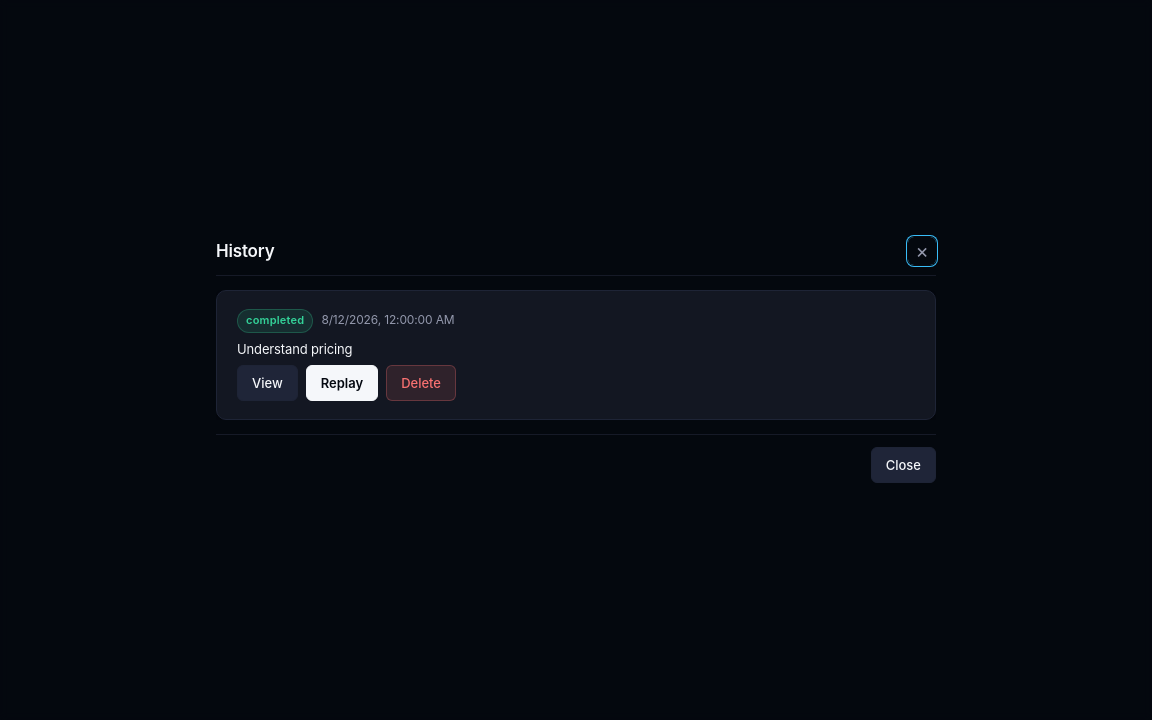
HistoryPanel › shows an error when deletion fails
Check: the text "Understand pricing" is shown, box [237,341,352,357]
What coordinates should you click on to do the following:
click the button "Delete"
I would click on:
 (421, 383)
Its box is [386,365,456,401].
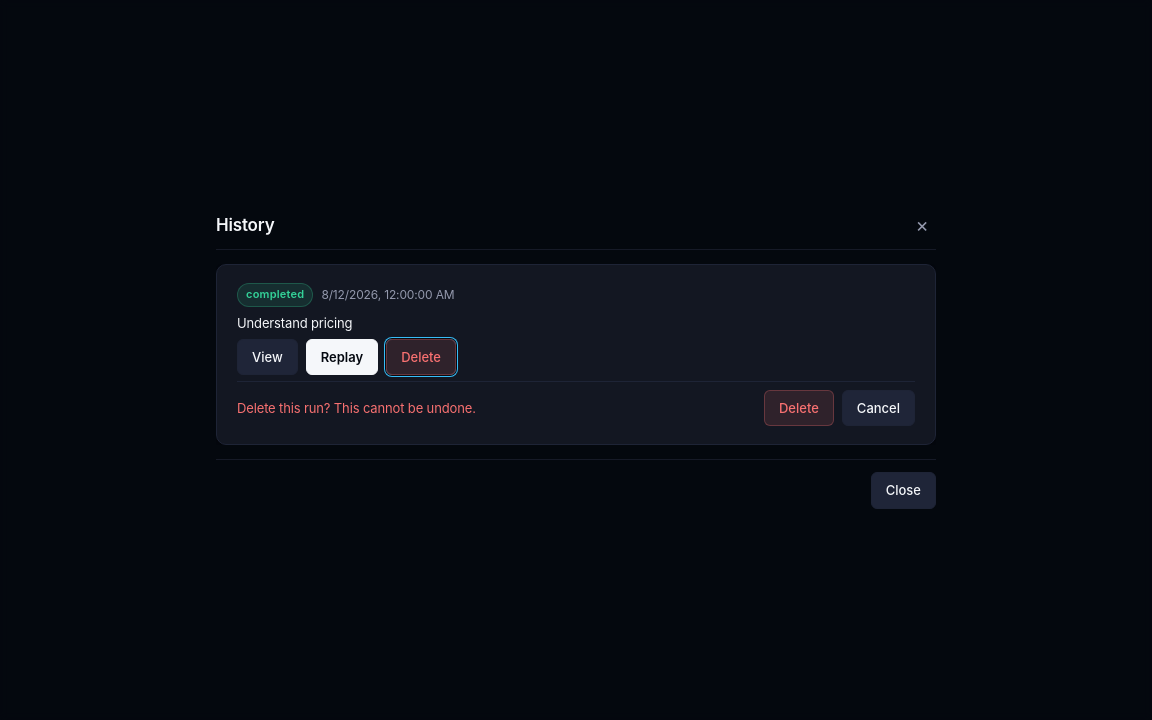
What coordinates should you click on to do the following:
click the button "Delete" in the row of "Delete this run? This cannot be undone."
I would click on:
 (799, 408)
Its box is [764,390,834,426].
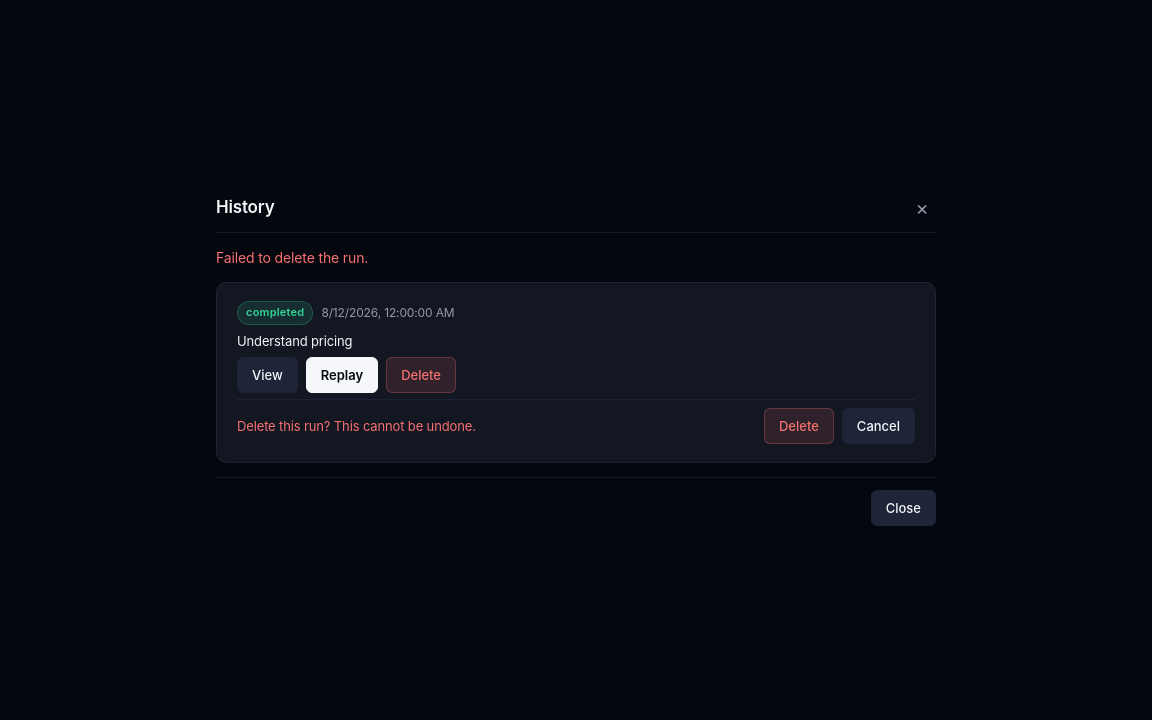
Check: the text "Failed to delete the run." is shown, box [216,249,368,266]
